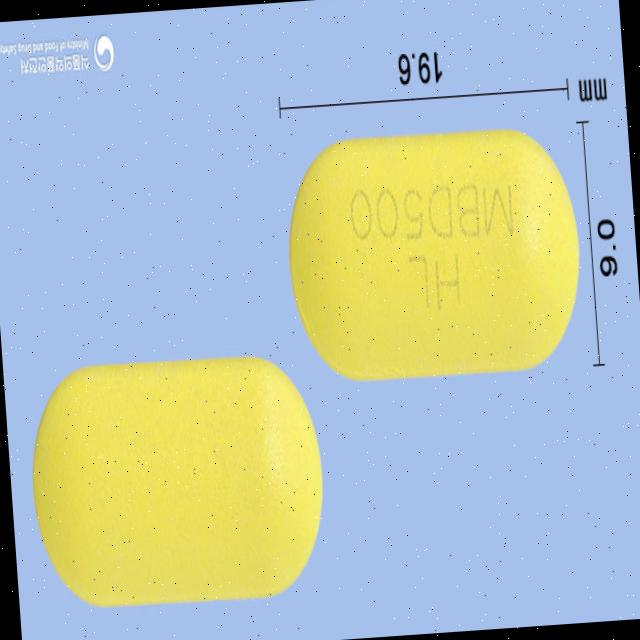Mabid: (279, 125, 586, 388)
